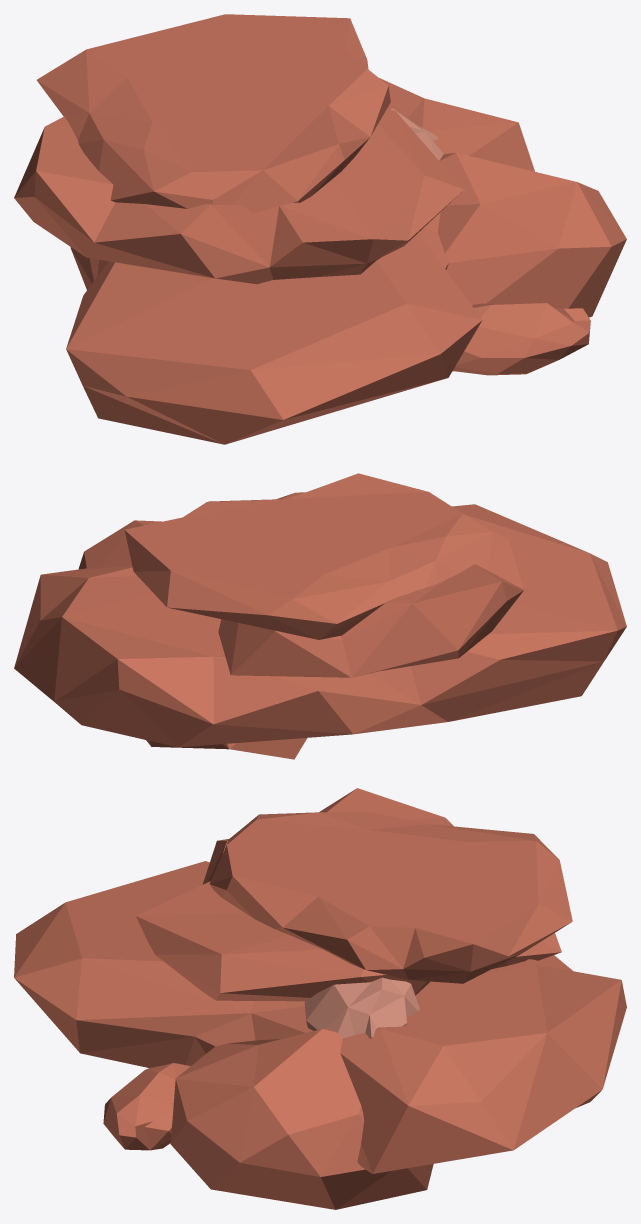
File: rock_007.fbx
3 views of the same model, one above another, from view 1: azimuth 30°, elevation 25°; view 2: azimuth 150°, elevation 25°; view 3: azimuth 270°, elevation 25° (orthographic). The views are drawn at different scales.
Visible parts, largest first — view 1: rock_007; view 2: rock_007; view 3: rock_007.
Part boxes in pixels (box(x1,y1,x2,y2)): rock_007: box(14, 14, 626, 444); rock_007: box(14, 473, 626, 759); rock_007: box(14, 788, 626, 1209).
Size of the model in its own units: 650 by 647 by 324.
